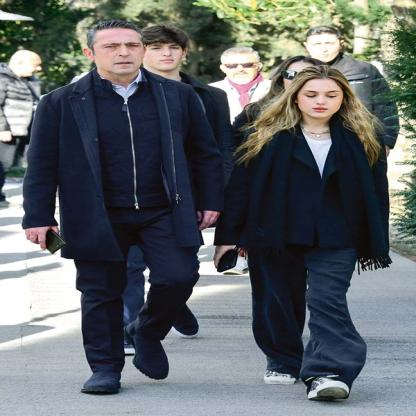person: (283, 77, 365, 130), (86, 27, 145, 82), (300, 26, 348, 69), (144, 25, 186, 73), (268, 50, 316, 89), (222, 44, 263, 85), (12, 46, 44, 82)
